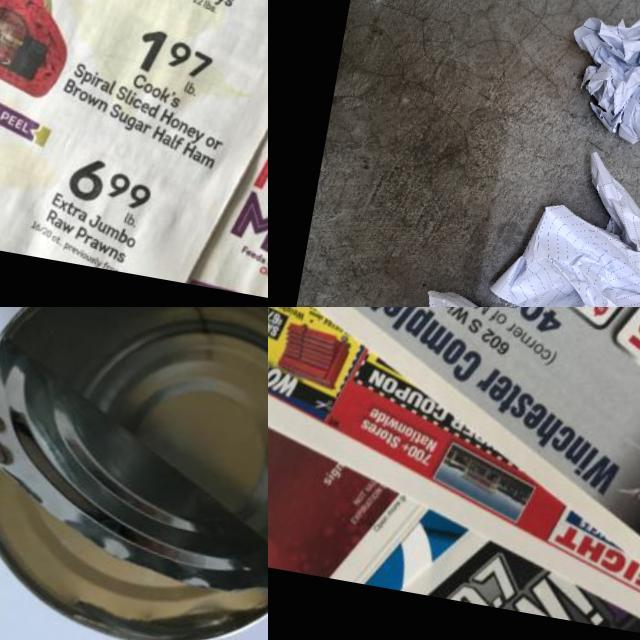lata: (0, 307, 268, 640)
papel: (268, 307, 640, 640), (0, 0, 268, 307), (472, 138, 640, 307), (552, 4, 640, 155)
